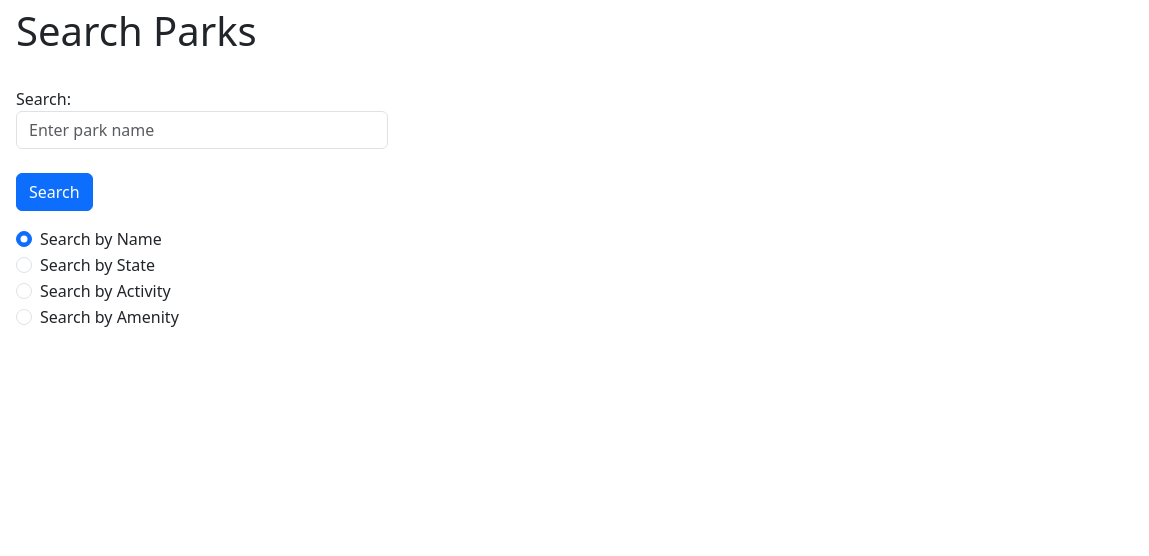
Test case: Search component › search by state
Click the radio button labelled "Search by State".
click(24, 265)  # box [16,257,32,273]
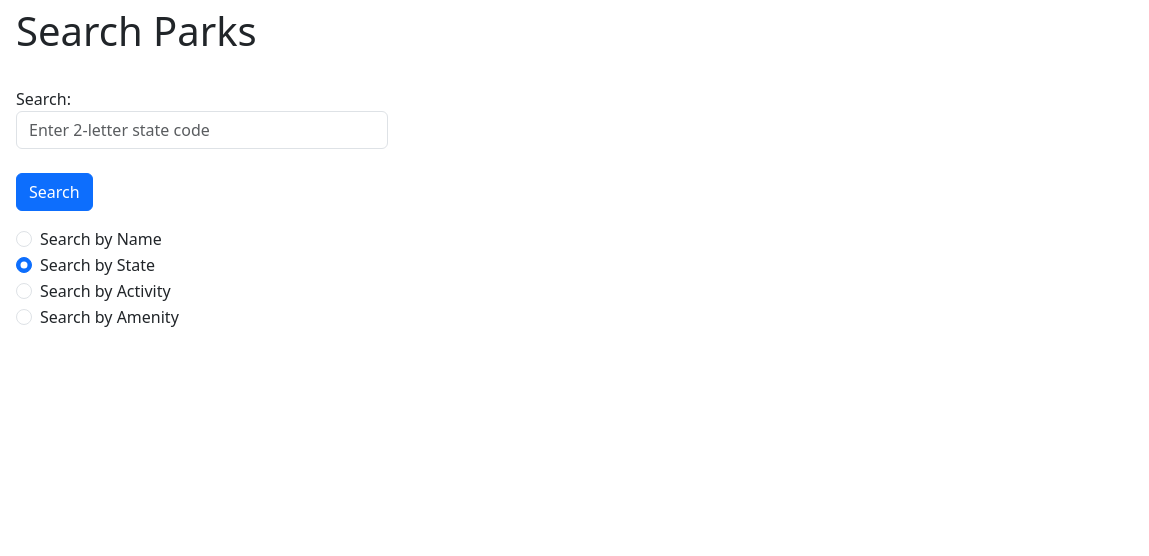
Type "CA" into the field with placeholder "Enter 2-letter state code".
click(202, 130); type("CA")  # box [16,111,388,149]
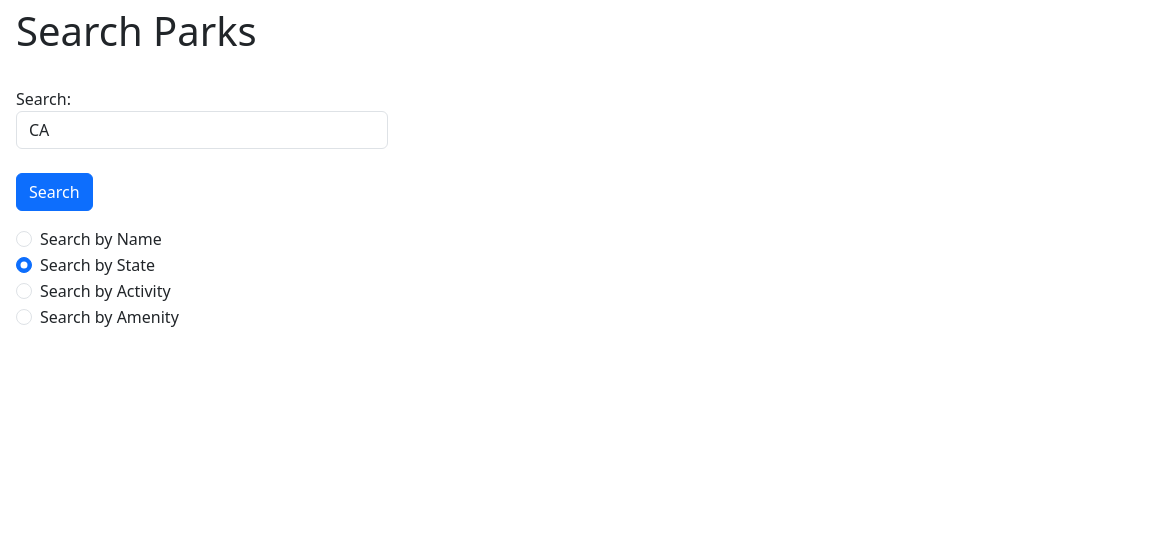
Click the button "Search".
click(54, 192)  # box [16,173,93,211]
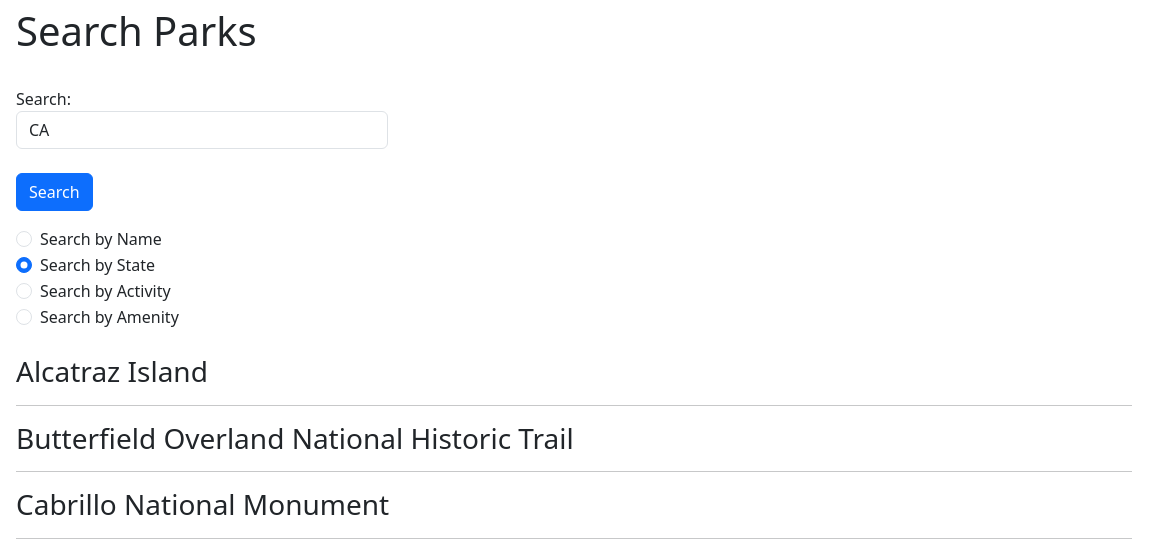
Expected: the heading "Alcatraz Island" is shown, [16,352,208,390]
Expected: the heading "Butterfield Overland National Historic Trail" is shown, [16,419,574,457]
Expected: the heading "Cabrillo National Monument" is shown, [16,485,389,523]
